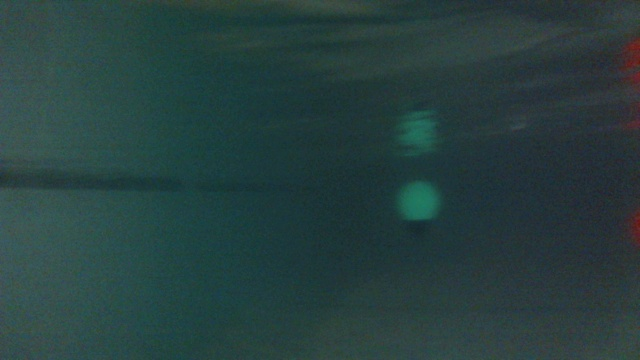buoy_green: (393, 174, 443, 237)
